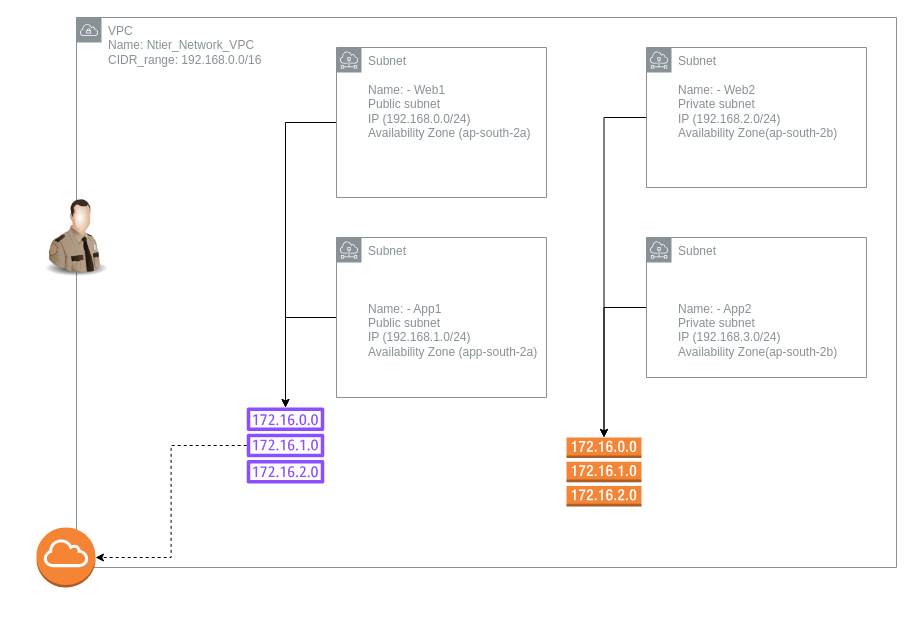
Some shapes in this 914 by 626 pixel diagram are drawn without their labels. The shapes that lost their labels are listed below. From the top down, each one's centre as x and y in pixels, then its label:
(x=76, y=237): Security Group For VPC
(x=604, y=471): Private Route Table
(x=66, y=557): Internet Gateways
